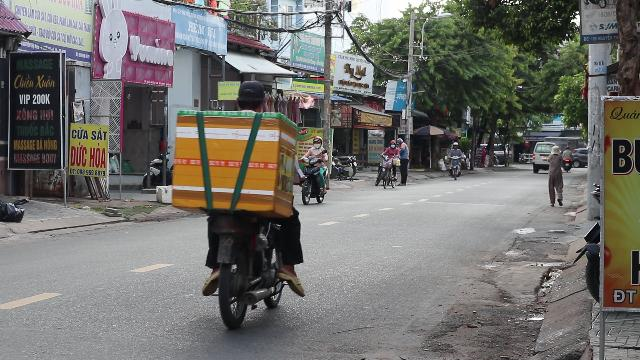motorcyclist: (169, 78, 309, 330)
nohelmet: (234, 80, 266, 112)
